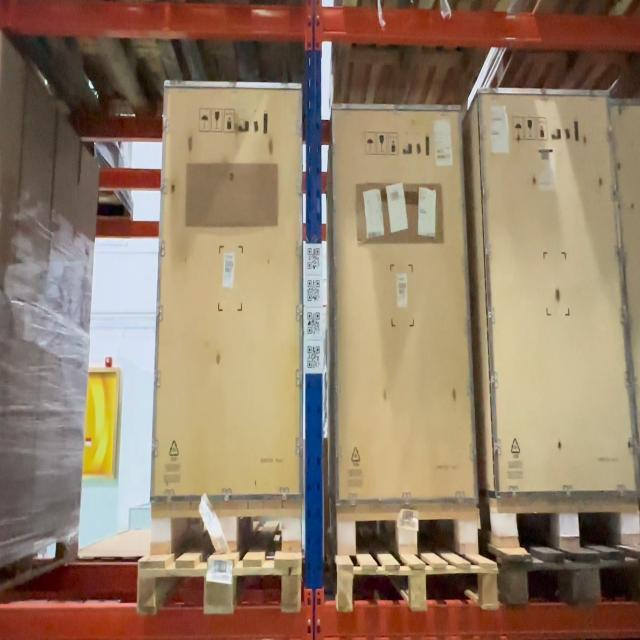box: (165, 80, 301, 496), (338, 104, 460, 508), (495, 90, 609, 499)
